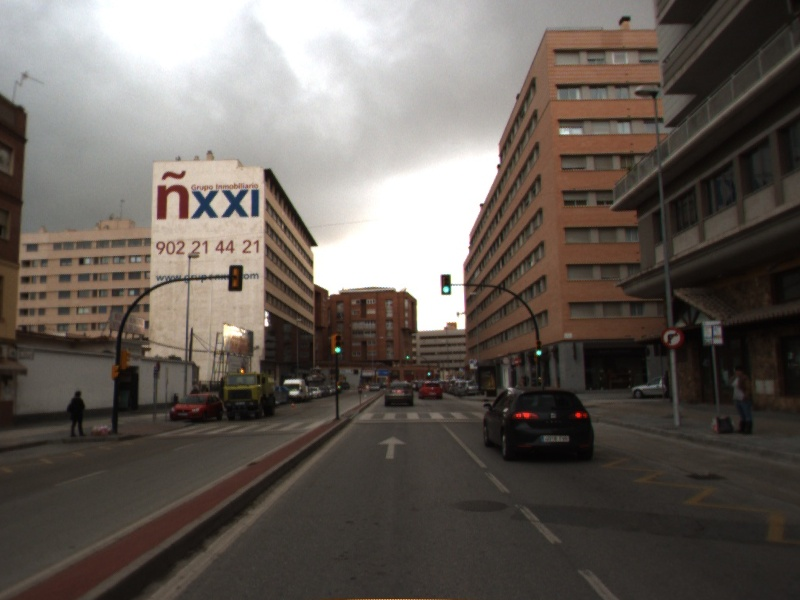STRAIGHT: (376, 434, 408, 461)
